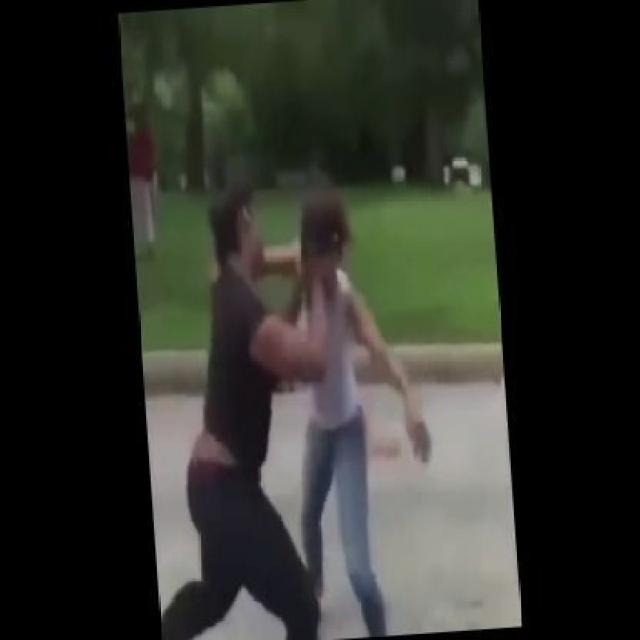fight: (166, 191, 430, 637)
